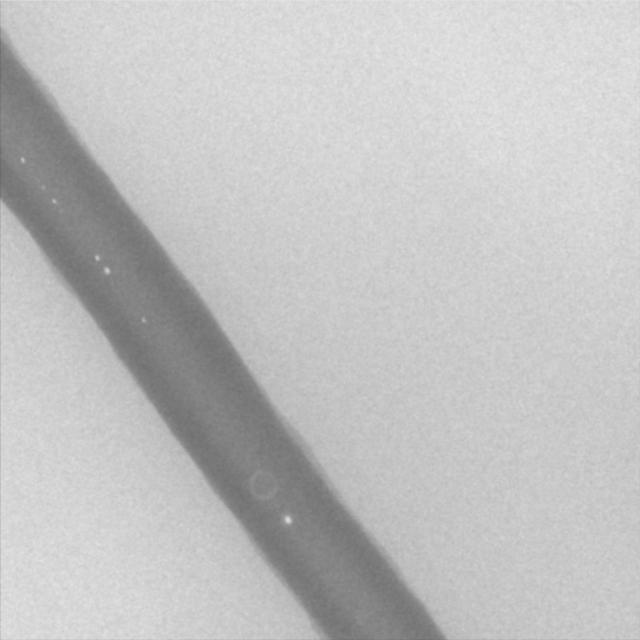air hole: (281, 513, 293, 525), (17, 154, 27, 164), (102, 265, 112, 275), (93, 251, 100, 263), (139, 315, 147, 325), (49, 195, 57, 204)
hollow bead: (245, 467, 279, 502)
